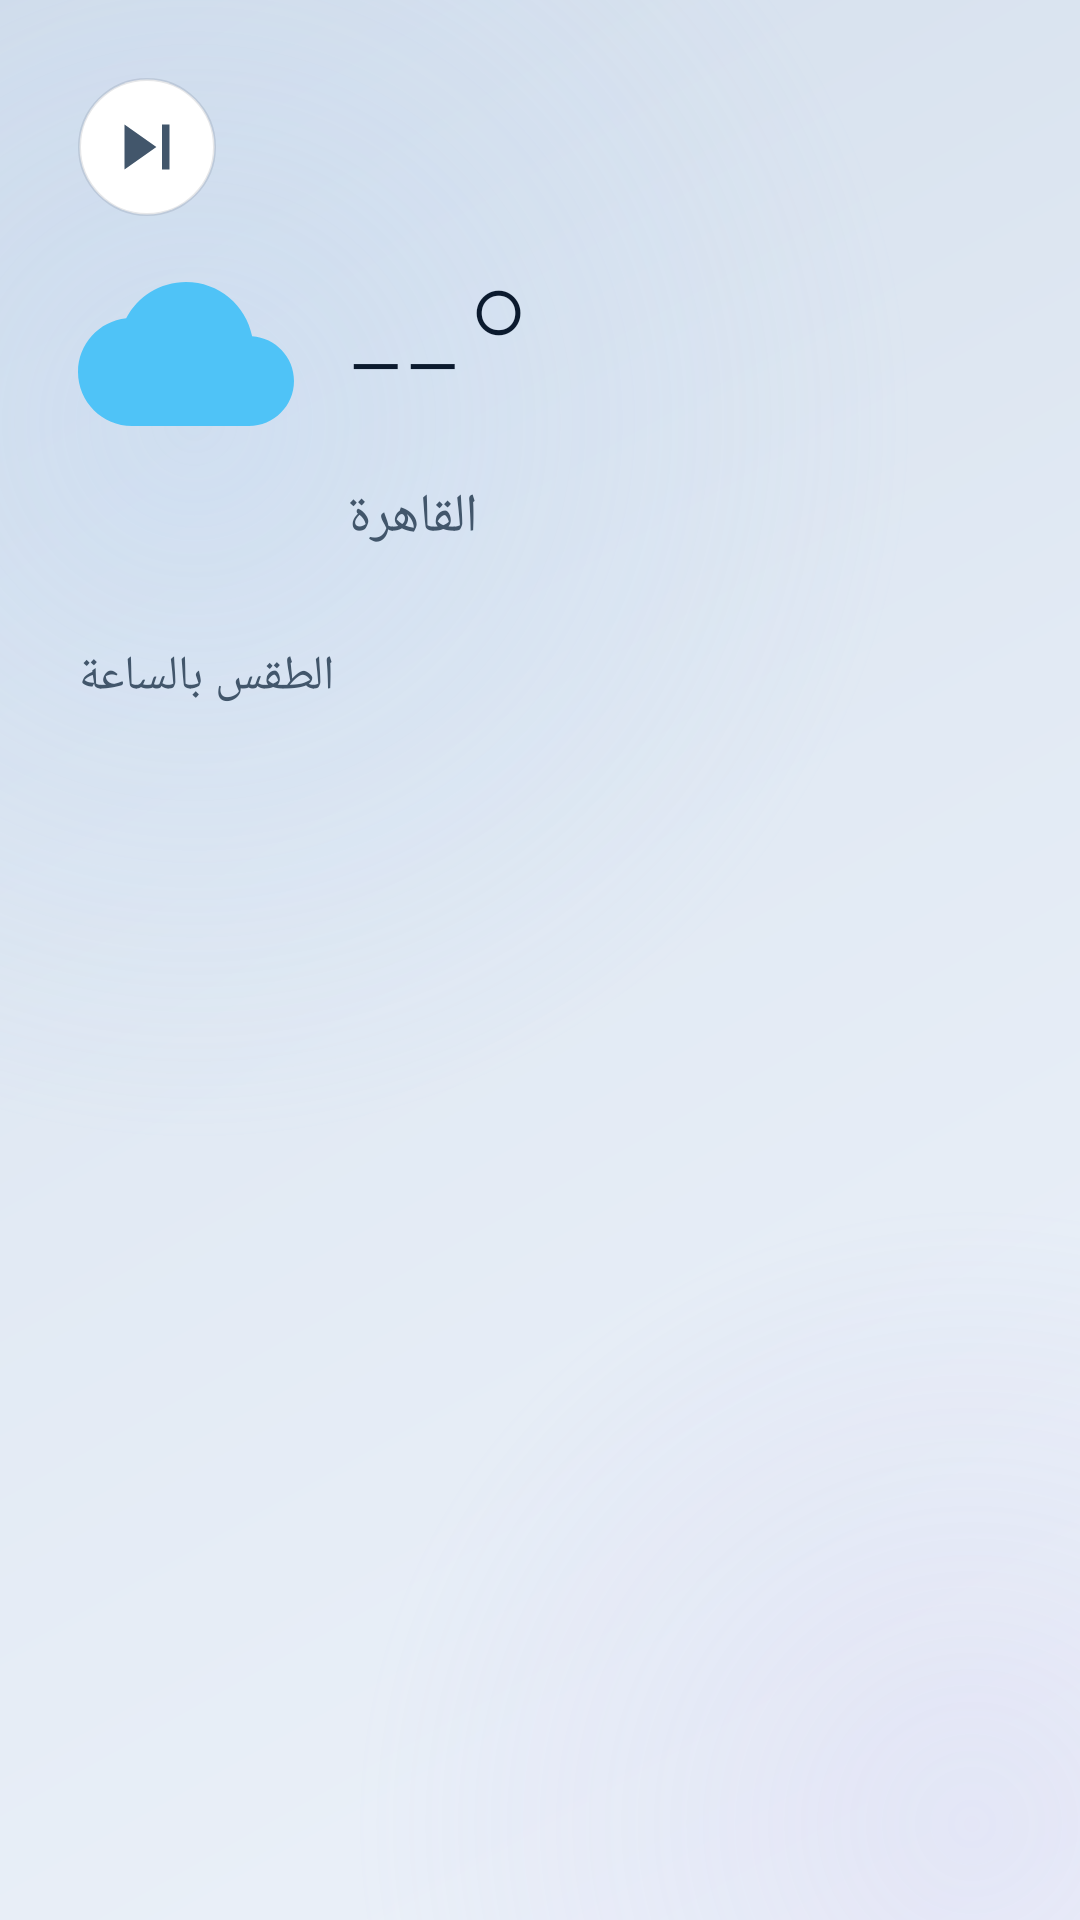

Named icons in this screenshot (1080w x 1920h) and their centers, [x,y]:
weather: [186,354]
